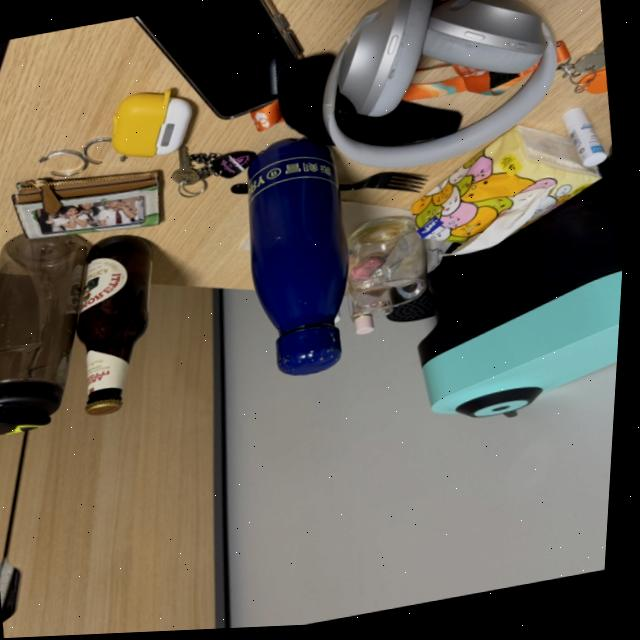beer: (53, 227, 185, 426)
